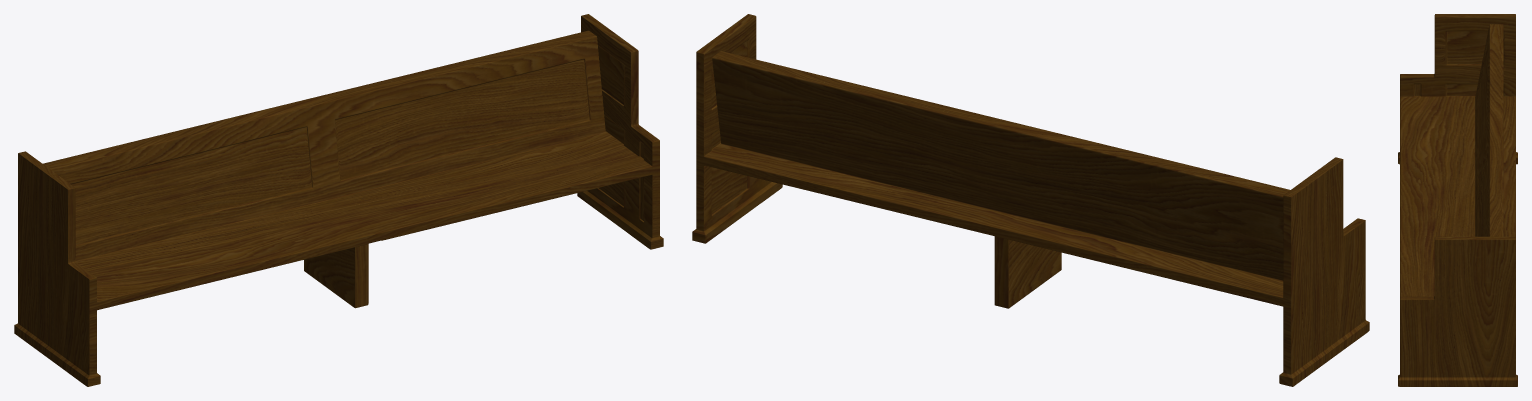
File: PEWW.fbx
3 renders of one model, left to right at view 1: azimuth 30°, elevation 25°; view 2: azimuth 150°, elevation 25°; view 3: azimuth 270°, elevation 25°, orthographic. The views are drawn at different scales.
Parts seen in each view (by area): view 1: pCube3; view 2: pCube3; view 3: pCube3.
Boxes of the visible parts, x1=… form: pCube3: x1=14, y1=14, x2=663, y2=386; pCube3: x1=692, y1=14, x2=1369, y2=386; pCube3: x1=1398, y1=14, x2=1517, y2=386.
Bounding box in the file's own units: 3 × 0.9 × 0.6669.
Materials: 1 (1 with a texture image).
